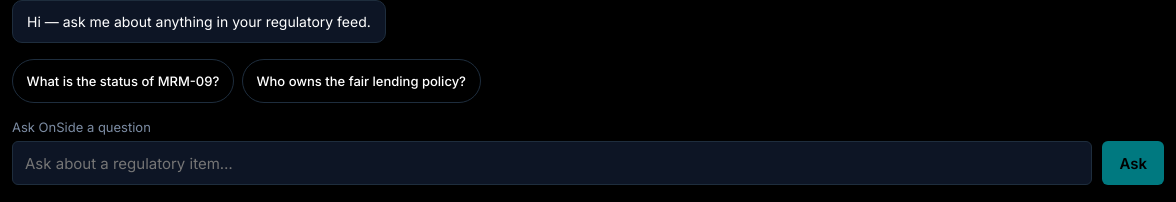
Test: AskChatPanel — matching contract (AC-A16-9, §2.9.4) › a suggestion Chip press fills the input only — never auto-submits
The image size is (1176, 202).
Click the button "Who owns the fair lending policy?" at (361, 81), box 242,59 -> 481,103
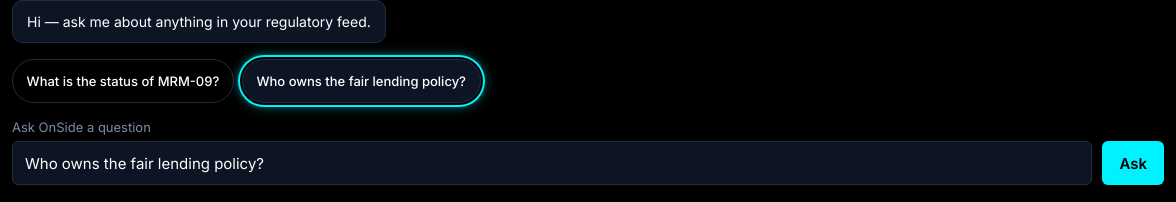
Result: the field labelled "Ask OnSide a question" holds "Who owns the fair lending policy?" at 12,141 -> 1092,185
